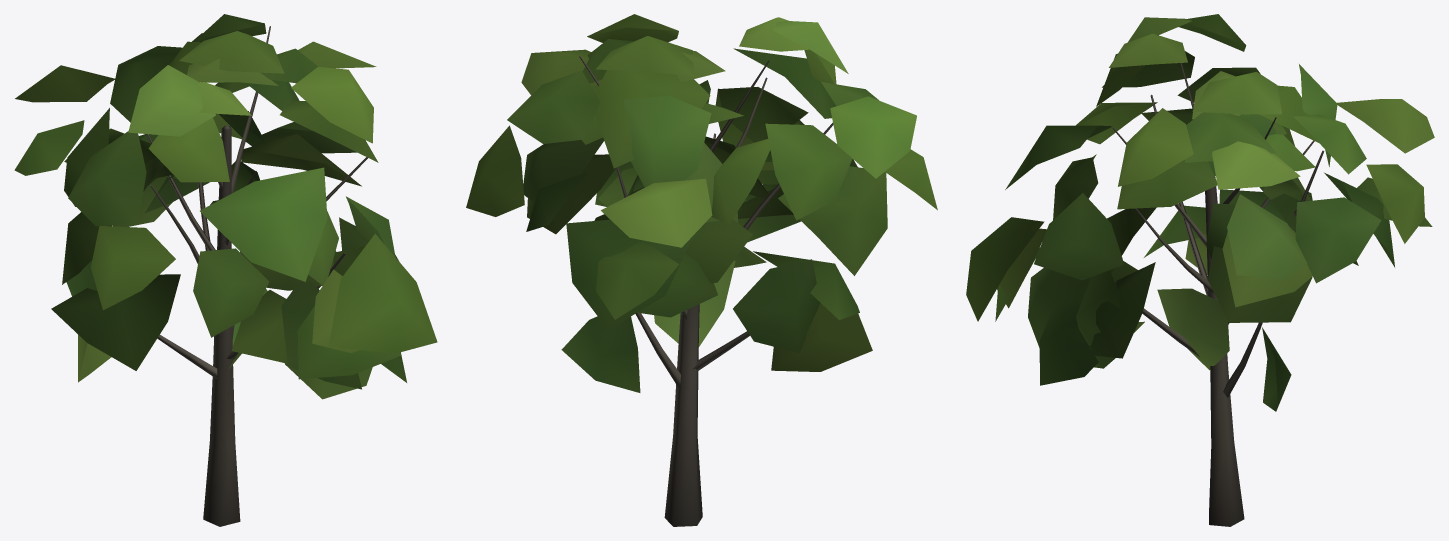
The model's file is lime-a.lod2.glb.
The picture shows the model from 3 angles, left to right: view 1: azimuth 30°, elevation 25°; view 2: azimuth 150°, elevation 25°; view 3: azimuth 270°, elevation 25°; orthographic projection. The views are drawn at different scales.
Bounding box in the file's own units: 9.11 × 11.66 × 10.62.
